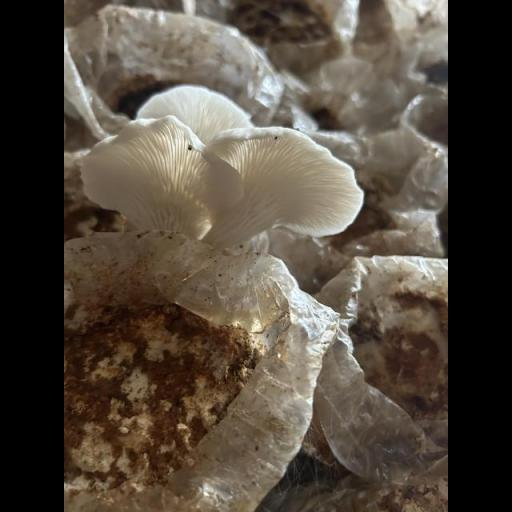White Oyster Mushroom: (72, 76, 367, 270)
